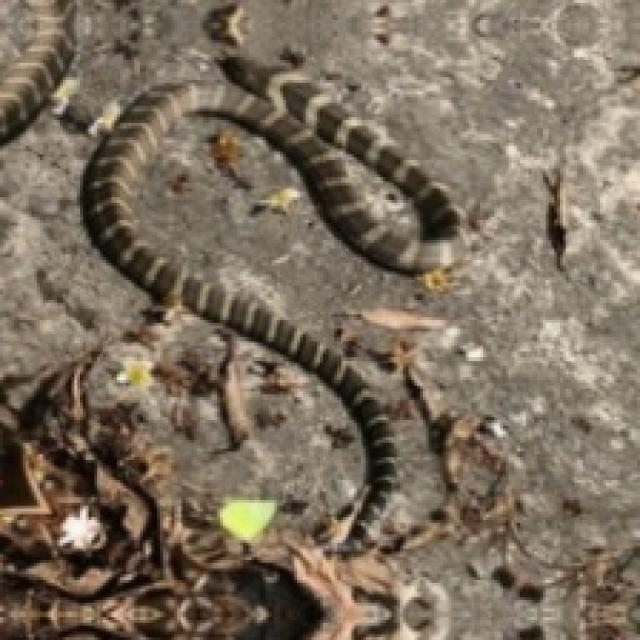king cobra: (83, 54, 457, 540)
